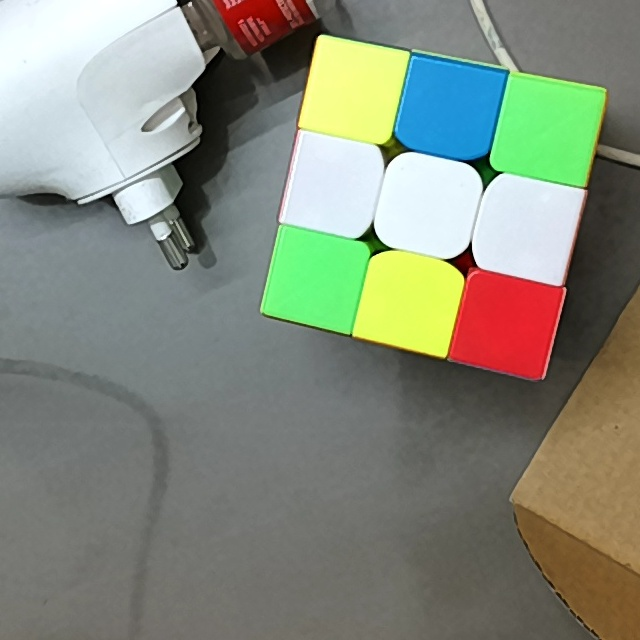tile: (488, 186, 567, 268), (466, 286, 545, 362), (511, 89, 583, 171), (316, 49, 390, 127), (410, 76, 487, 148), (370, 268, 449, 336), (391, 171, 463, 245), (296, 151, 367, 224), (280, 245, 352, 315)
